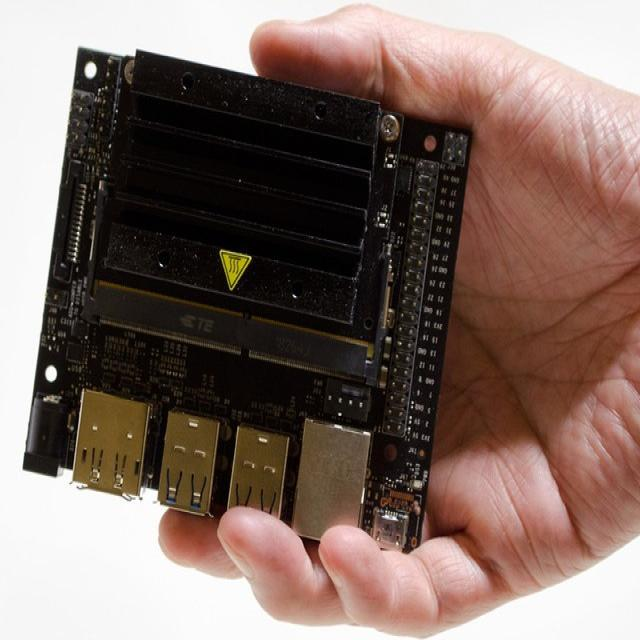Jetson Nano: (24, 47, 475, 556)
